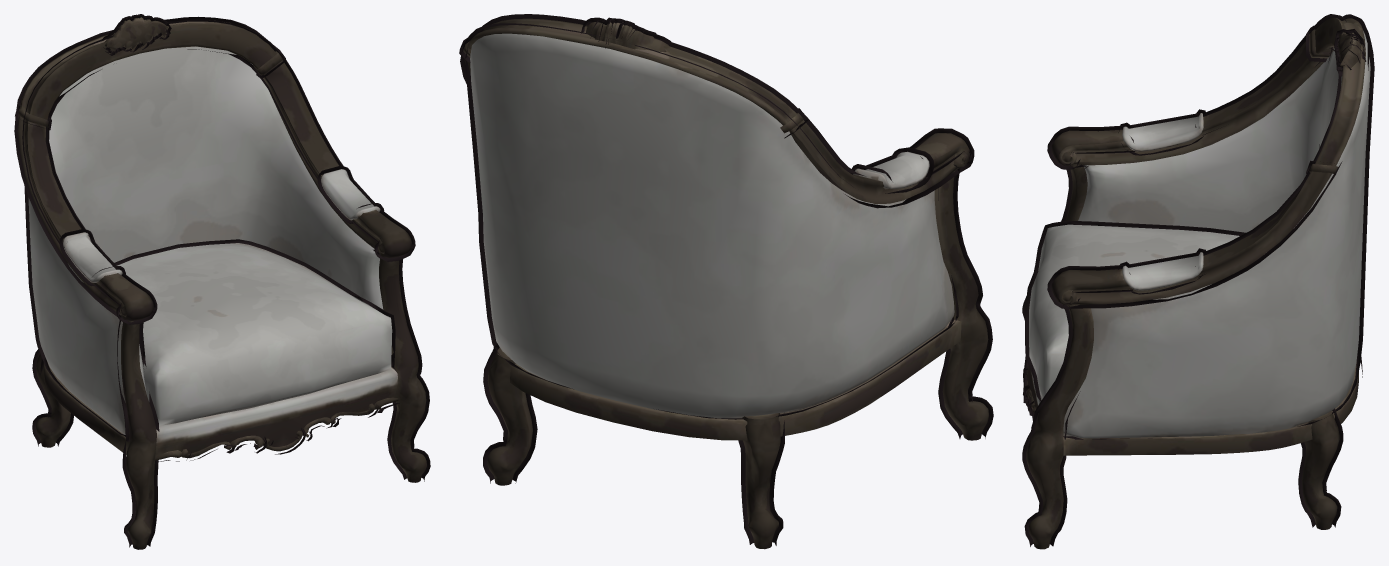
File: SM_Int_Armchair.fbx
3 views of the same model, side by side, from view 1: azimuth 30°, elevation 25°; view 2: azimuth 150°, elevation 25°; view 3: azimuth 270°, elevation 25° (orthographic). The views are drawn at different scales.
Visible parts, largest first — view 1: SM_Int_Armchair; view 2: SM_Int_Armchair; view 3: SM_Int_Armchair.
Part boxes in pixels (x1,y1,x2,y2): SM_Int_Armchair: (14, 14, 430, 549); SM_Int_Armchair: (459, 14, 993, 549); SM_Int_Armchair: (1022, 14, 1374, 549).
Size of what is drawn, in the model's own units: 0.7724 by 0.9597 by 0.6987.
